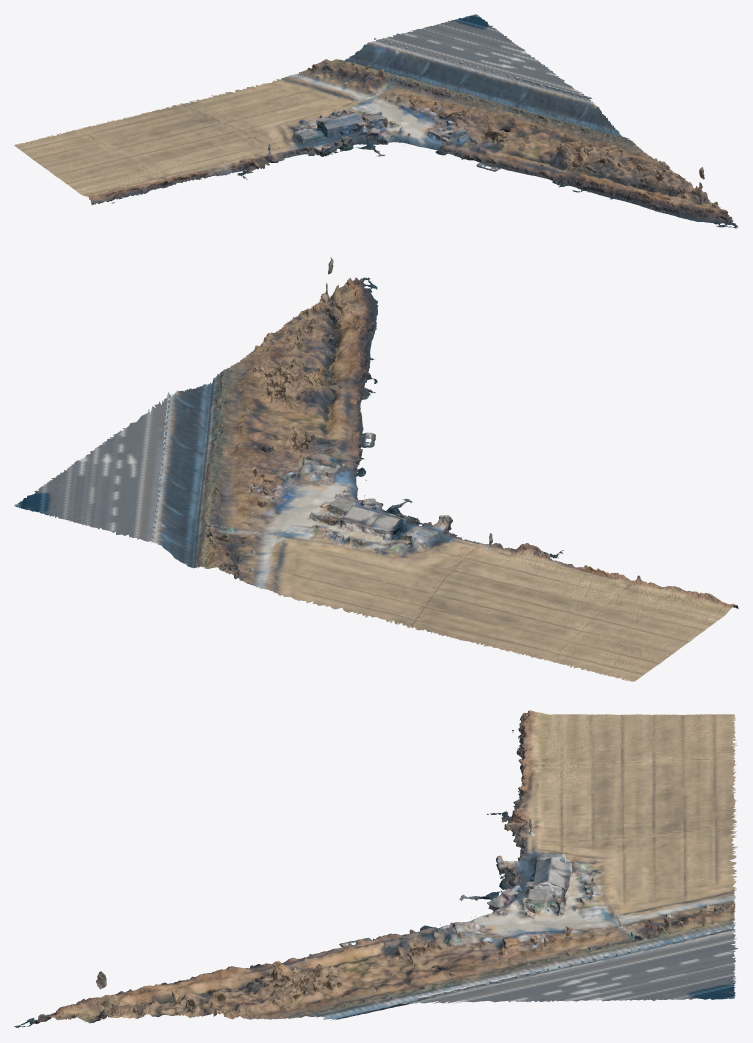
Rendered from EnvAsset_008_Tile_01.obj.
3 views of the same model, one above another, from view 1: azimuth 30°, elevation 25°; view 2: azimuth 150°, elevation 25°; view 3: azimuth 270°, elevation 25° (orthographic). The views are drawn at different scales.
Parts seen in each view (by area): view 1: Default; view 2: Default; view 3: Default.
Part boxes in pixels (x1,y1,x2,y2): Default: (14, 14, 738, 228); Default: (14, 257, 738, 681); Default: (14, 710, 738, 1027).
Bounding box in the file's own units: 116 × 9.33 × 114.
1 material, 1 textured.
